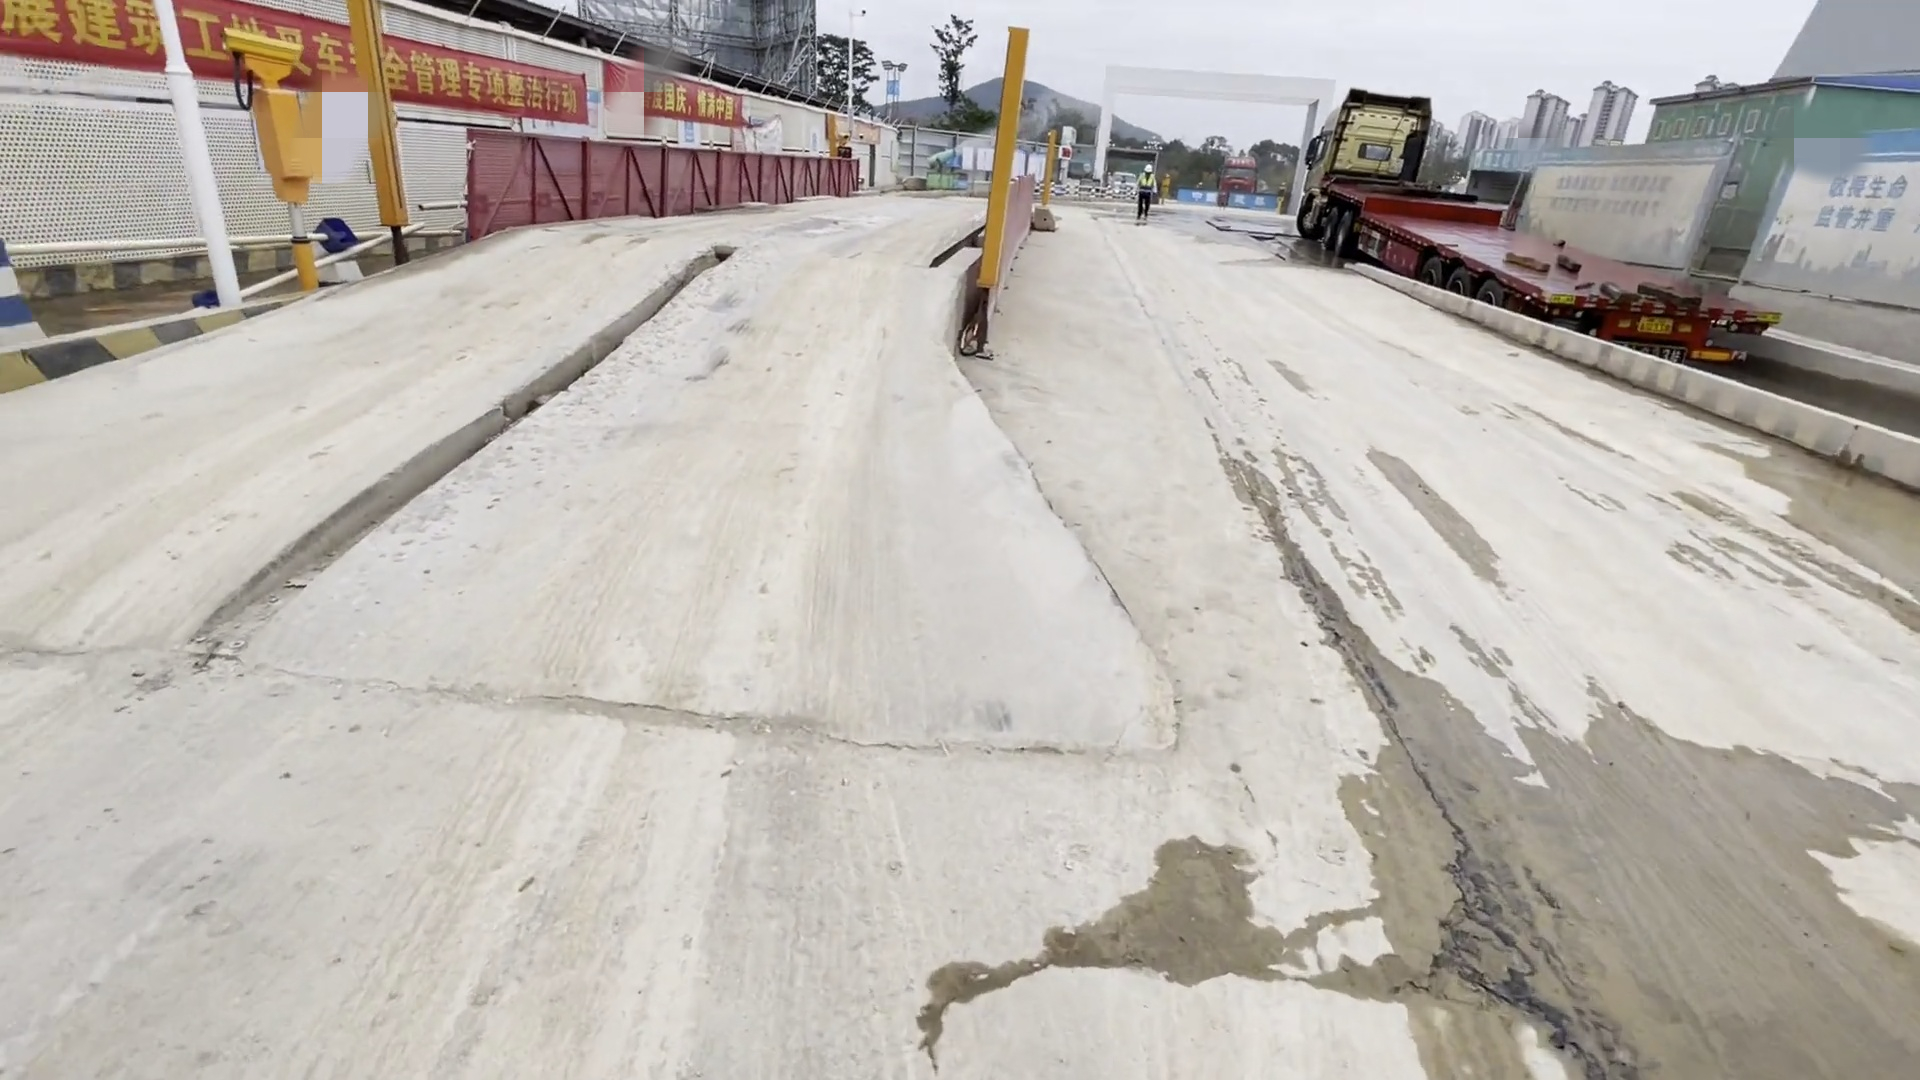fence: (460, 131, 865, 233)
slogan: (8, 5, 775, 140), (1515, 149, 1919, 295)
